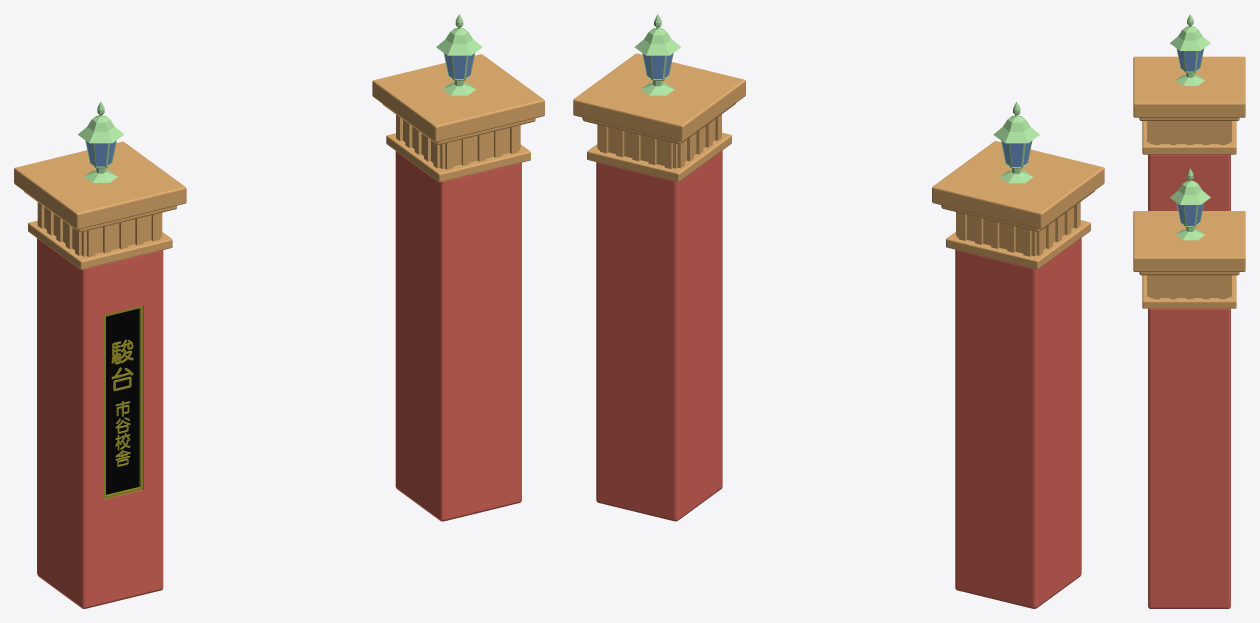
Rendered from sundaigatefbx.fbx.
The picture shows the model from 3 angles, left to right: view 1: azimuth 30°, elevation 25°; view 2: azimuth 150°, elevation 25°; view 3: azimuth 270°, elevation 25°; orthographic projection. The views are drawn at different scales.
Visible parts, largest first — view 1: 立方体.002, 立方体.009, 立方体.005, 立方体.012, 立方体.003, 立方体.010, 球, 球.001, 立方体.013, 立方体.006, 立方体.014, 立方体.007 (+2 smaller); view 2: 立方体.002, 立方体.009, 立方体.005, 立方体.012, 立方体.010, 立方体.003, 球.001, 球, 立方体.013, 立方体.006, 立方体.014, 立方体.007 (+2 smaller); view 3: 立方体.002, 立方体.012, 立方体.005, 立方体.009, 球, 球.001, 立方体.003, 立方体.010, 立方体.006, 立方体.013, 立方体.008, 立方体.015 (+2 smaller).
Boxes of the visible parts, x1,y1,x2,y2 form: 立方体.002: (395,151,521,521); 立方体.009: (37,238,163,608); 立方体.005: (372,54,544,142); 立方体.012: (14,141,186,229); 立方体.003: (386,133,530,182); 立方体.010: (28,220,172,269); 球: (436,14,482,95); 球.001: (78,102,124,182); 立方体.013: (44,207,161,256); 立方体.006: (403,120,519,169); 立方体.014: (87,213,159,256); 立方体.007: (445,126,518,169); 立方体.002: (596,150,722,521); 立方体.009: (955,238,1081,608); 立方体.005: (573,53,745,141); 立方体.012: (932,141,1104,229); 立方体.010: (946,220,1090,269); 立方体.003: (587,132,731,181); 球.001: (993,102,1039,183); 球: (634,14,680,95); 立方体.013: (957,207,1073,256); 立方体.006: (598,119,715,168); 立方体.014: (958,213,1031,256); 立方体.007: (600,125,672,168); 立方体.002: (1148,308,1230,608); 立方体.012: (1133,56,1245,117); 立方体.005: (1133,211,1245,271); 立方体.009: (1148,154,1230,210); 球: (1170,168,1210,240); 球.001: (1170,14,1210,85); 立方体.003: (1142,275,1236,308); 立方体.010: (1142,121,1236,154); 立方体.006: (1149,275,1229,297); 立方体.013: (1149,121,1229,143); 立方体.008: (1153,275,1225,299); 立方体.015: (1153,121,1225,144).
Size of the model in its own units: 1148 by 1127 by 270.
